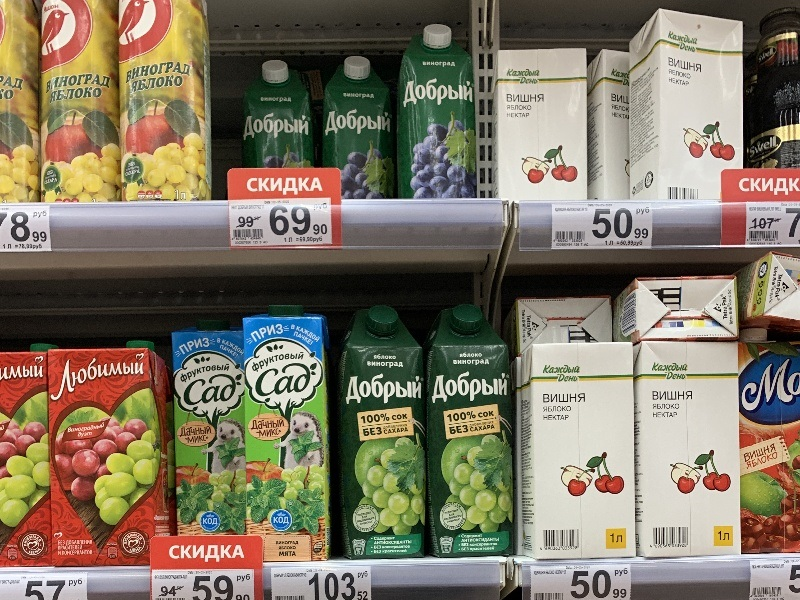juice: (42, 330, 177, 583), (233, 302, 340, 570), (329, 301, 431, 567), (423, 300, 522, 566)
